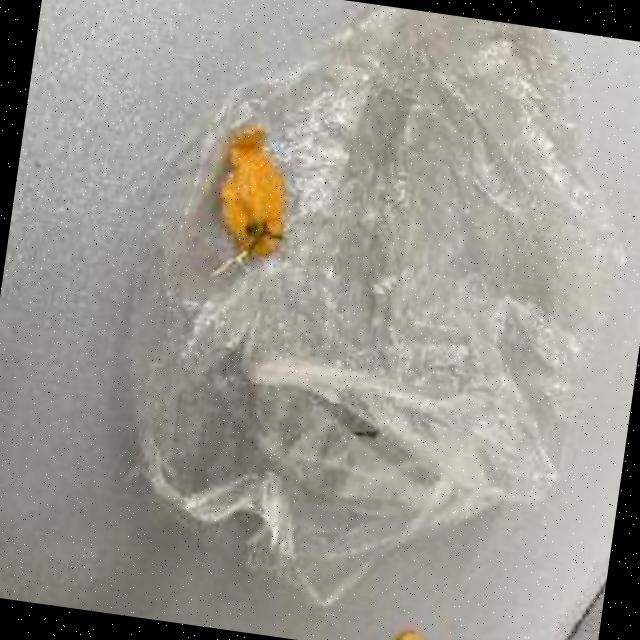orange-peel: (207, 117, 302, 266)
